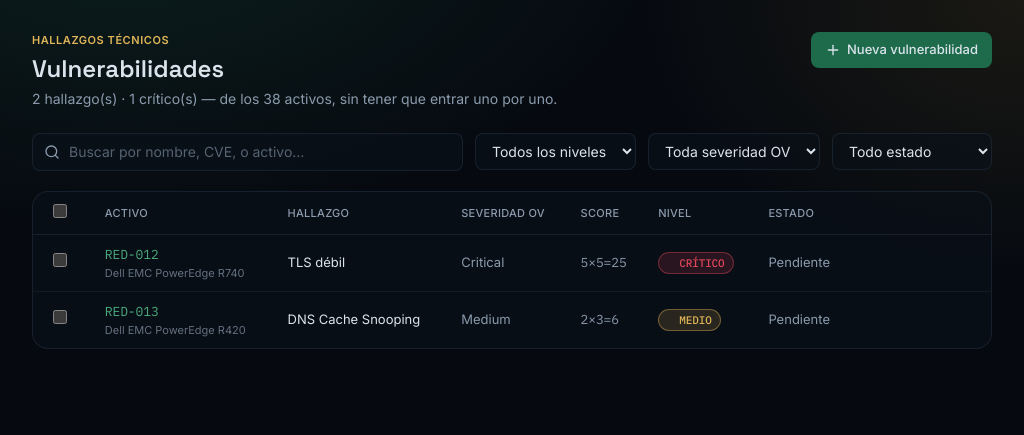
Vulnerabilidades — selección › 'seleccionar todos' marca las filas visibles, y vuelve a marcarlo las desmarca todas
The width and height of the screenshot is (1024, 435).
Expected: the text "TLS débil" is shown, [276, 234, 449, 292]
What coordinates should you click on to do the following:
click the checkbox in the row of "Severidad OV"
I would click on:
 (60, 210)
Its box is [53, 204, 67, 218].
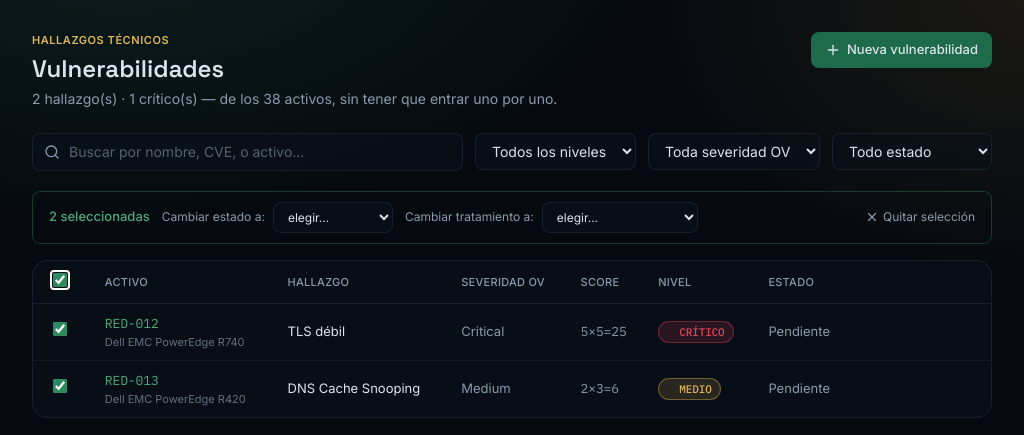
Result: the text "2 seleccionadas" is shown at [49, 207, 150, 227]
Result: the checkbox next to "RED-012" is checked at [53, 322, 67, 336]
Result: the checkbox next to "RED-013" is checked at [53, 379, 67, 393]
What coordinates should you click on to do the following:
click the checkbox in the row of "Severidad OV"
I would click on:
 (60, 280)
Its box is [53, 272, 67, 286].
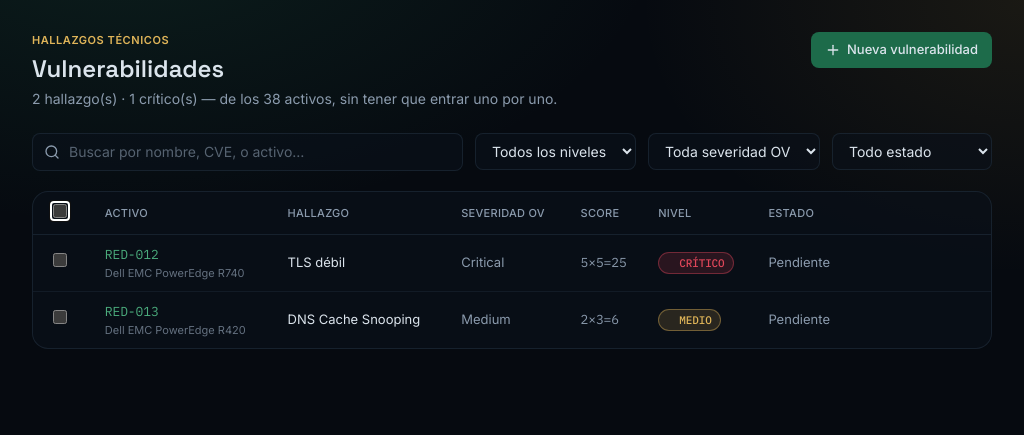
Result: the text "seleccionada" is gone
